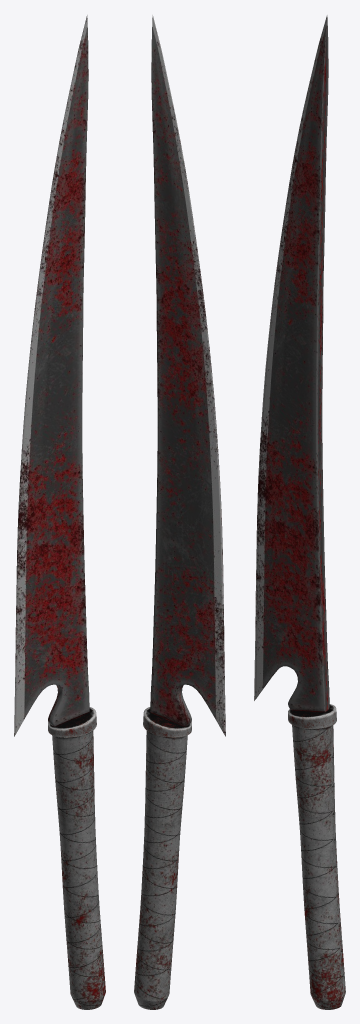
File: bloody-blade.glb
3 views of the same model, side by side, from view 1: azimuth 30°, elevation 25°; view 2: azimuth 150°, elevation 25°; view 3: azimuth 330°, elevation 25° (orthographic).
Parts seen in each view (by area): view 1: pCube1, pCylinder1; view 2: pCube1, pCylinder1; view 3: pCube1, pCylinder1.
Boxes of the visible parts, x1,y1,x2,y2 form: pCube1: (14, 15, 89, 736); pCylinder1: (48, 707, 105, 1009); pCube1: (150, 15, 225, 736); pCylinder1: (134, 707, 191, 1009); pCube1: (254, 15, 329, 712); pCylinder1: (288, 704, 345, 1009).
Bounding box in the file's own units: 1.1 × 11.62 × 0.4423.
2 materials, 2 textured.
